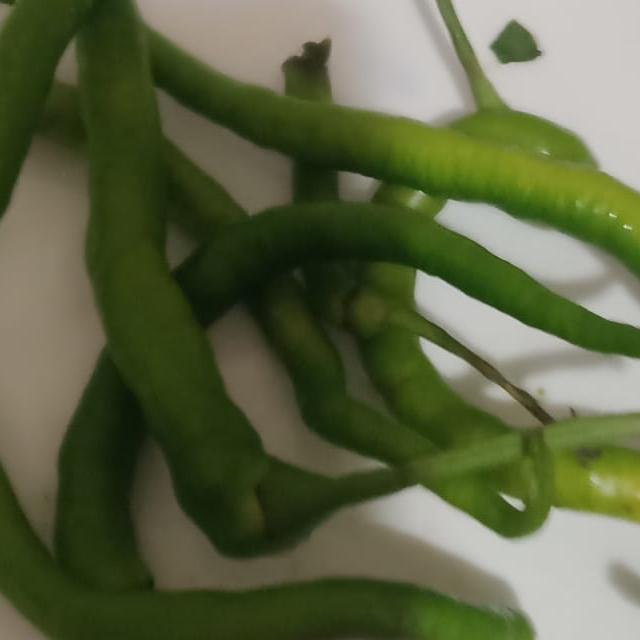chili_pepper: (0, 0, 529, 632)
